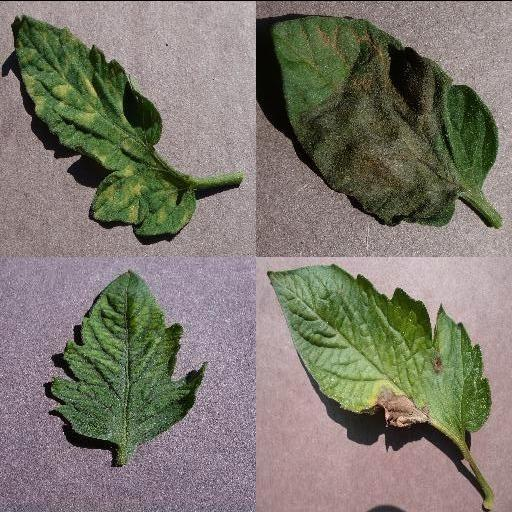Late Blight: (270, 13, 498, 227), (266, 262, 490, 430)
Leaf Mold: (13, 14, 197, 232)
Mosaic Virus: (48, 268, 208, 450)
